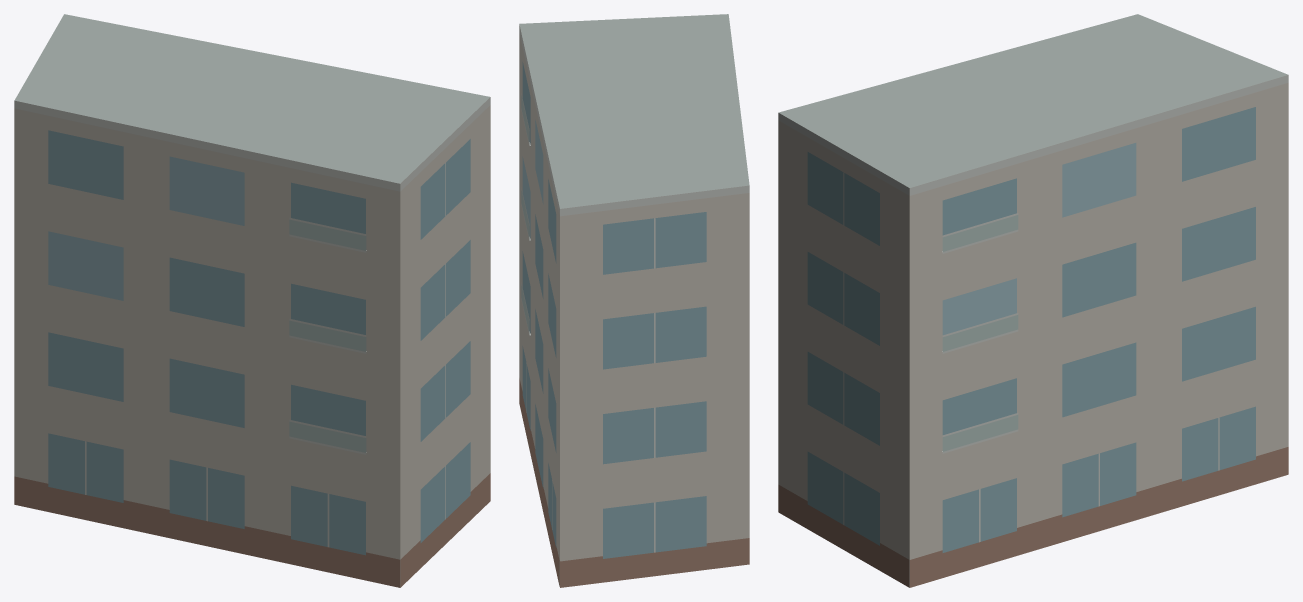
The model's file is survey-upis-32607090.glb.
3 renders of one model, left to right at view 1: azimuth 30°, elevation 25°; view 2: azimuth 150°, elevation 25°; view 3: azimuth 270°, elevation 25°, orthographic. The views are drawn at different scales.
Visible parts, largest first — view 1: survey-upis-32607090.tmp; view 2: survey-upis-32607090.tmp; view 3: survey-upis-32607090.tmp.
Part boxes in pixels (x1=…): survey-upis-32607090.tmp: x1=14, y1=14, x2=490, y2=587; survey-upis-32607090.tmp: x1=519, y1=14, x2=749, y2=587; survey-upis-32607090.tmp: x1=778, y1=14, x2=1288, y2=587.
Bounding box in the file's own units: 11.74 × 12.55 × 14.53.
